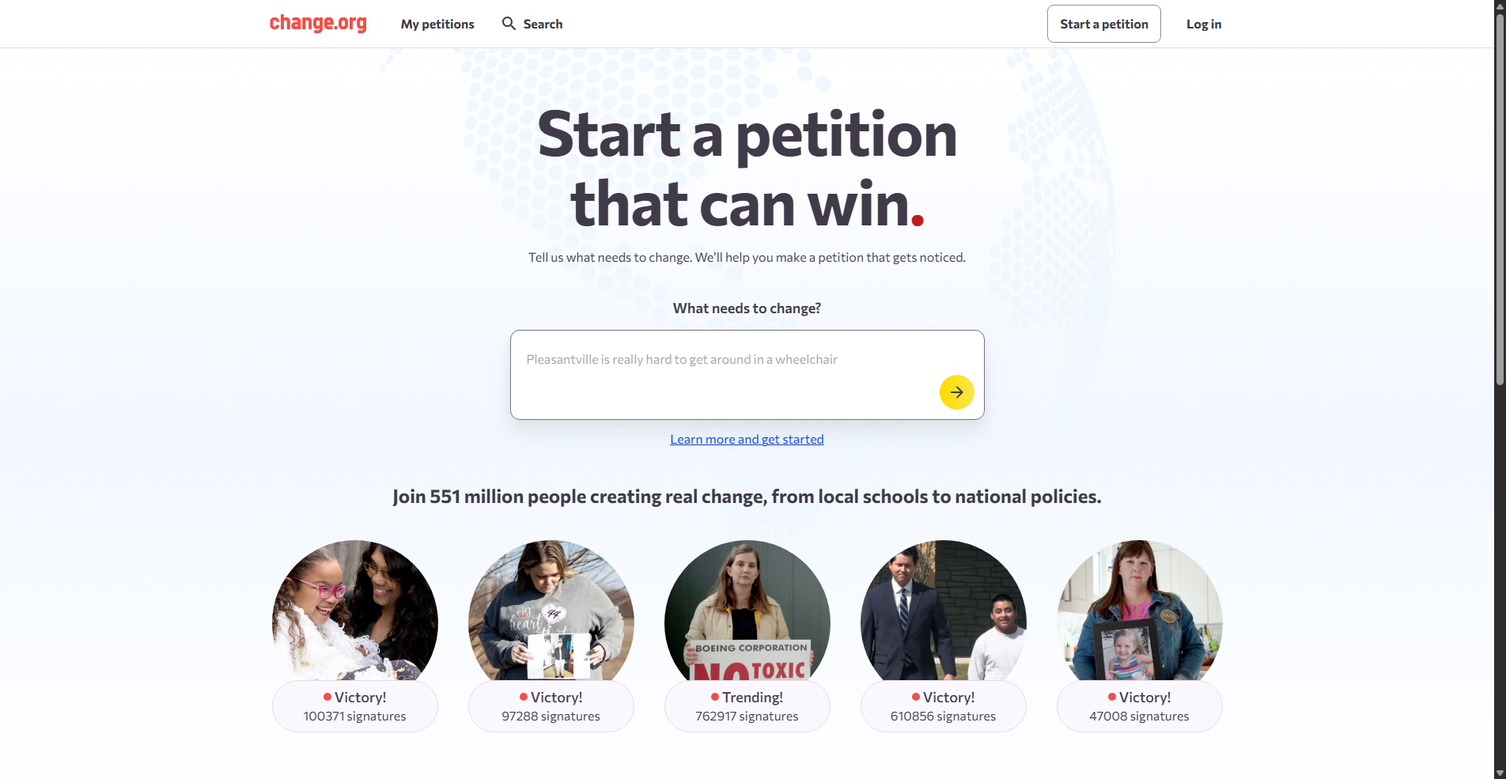button: (266, 11, 369, 36), (939, 375, 974, 410), (6, 6, 31, 18)
dropdown: (0, 0, 161, 17)
label: (0, 1, 161, 16)
link: (272, 540, 438, 779), (468, 540, 634, 779), (664, 540, 830, 779), (860, 540, 1026, 779), (1056, 540, 1222, 779), (1048, 5, 1161, 43), (670, 429, 824, 448), (394, 11, 481, 36), (493, 11, 569, 36), (1180, 11, 1228, 36)
textarea: (511, 331, 984, 419)
